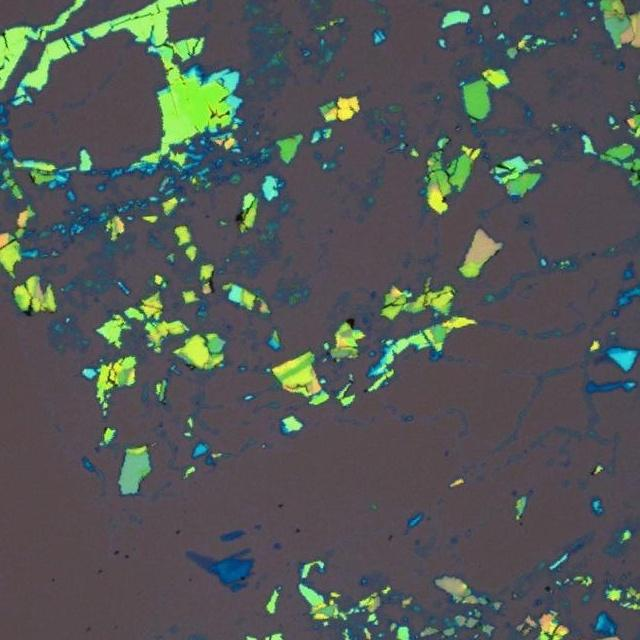monolayer-eWW4: (183, 550, 217, 570)
